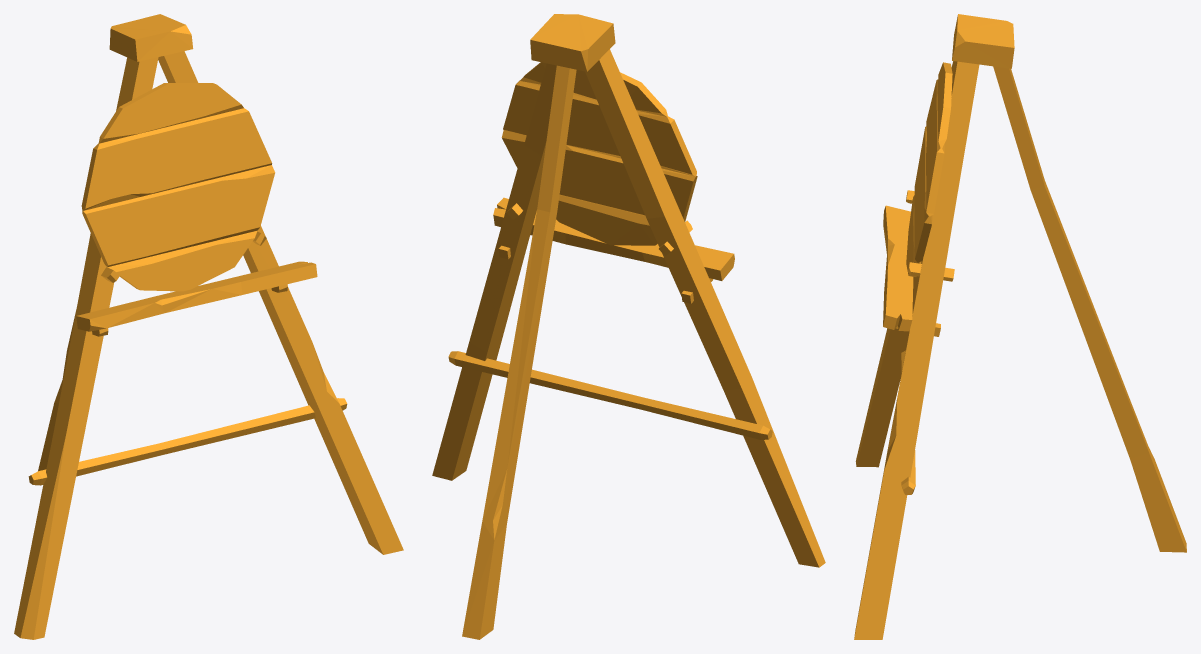
The model's file is SM_Training_Target_Wooden_Mid_Fantasy.fbx.
3 views of the same model, side by side, from view 1: azimuth 30°, elevation 25°; view 2: azimuth 150°, elevation 25°; view 3: azimuth 270°, elevation 25° (orthographic). The views are drawn at different scales.
Visible parts, largest first — view 1: training-target-wooden-mid-fantasy; view 2: training-target-wooden-mid-fantasy; view 3: training-target-wooden-mid-fantasy.
Part boxes in pixels (box(x1,y1,x2,y2)): training-target-wooden-mid-fantasy: box(14, 14, 403, 639); training-target-wooden-mid-fantasy: box(432, 14, 825, 639); training-target-wooden-mid-fantasy: box(854, 14, 1186, 639).
Bounding box in the file's own units: 1.26 × 1.68 × 0.9673.
